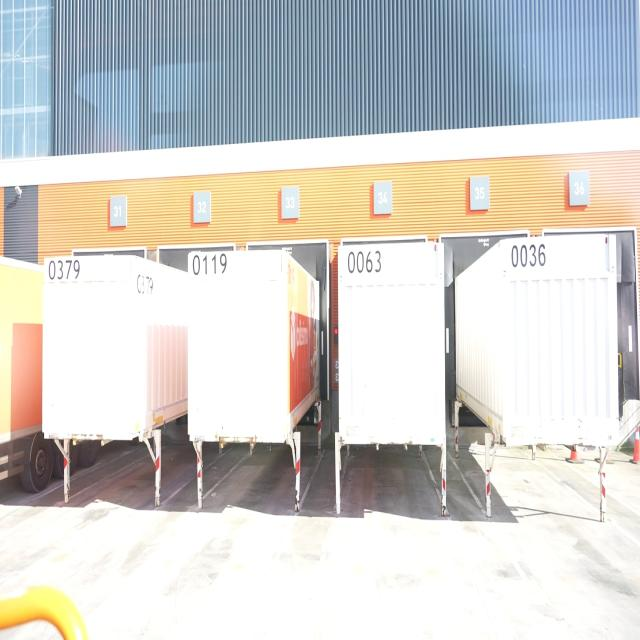Code: (507, 240, 548, 270), (343, 247, 383, 276), (190, 250, 230, 278), (46, 256, 82, 286)
